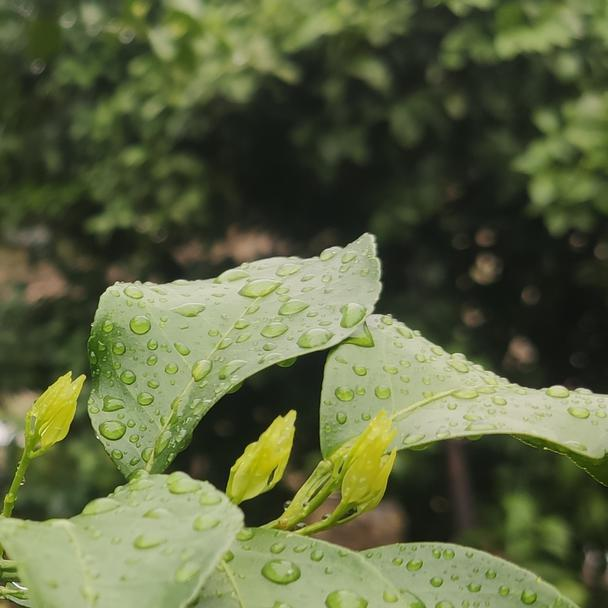shoot: (323, 415, 399, 532), (218, 406, 305, 503), (18, 369, 85, 477)
